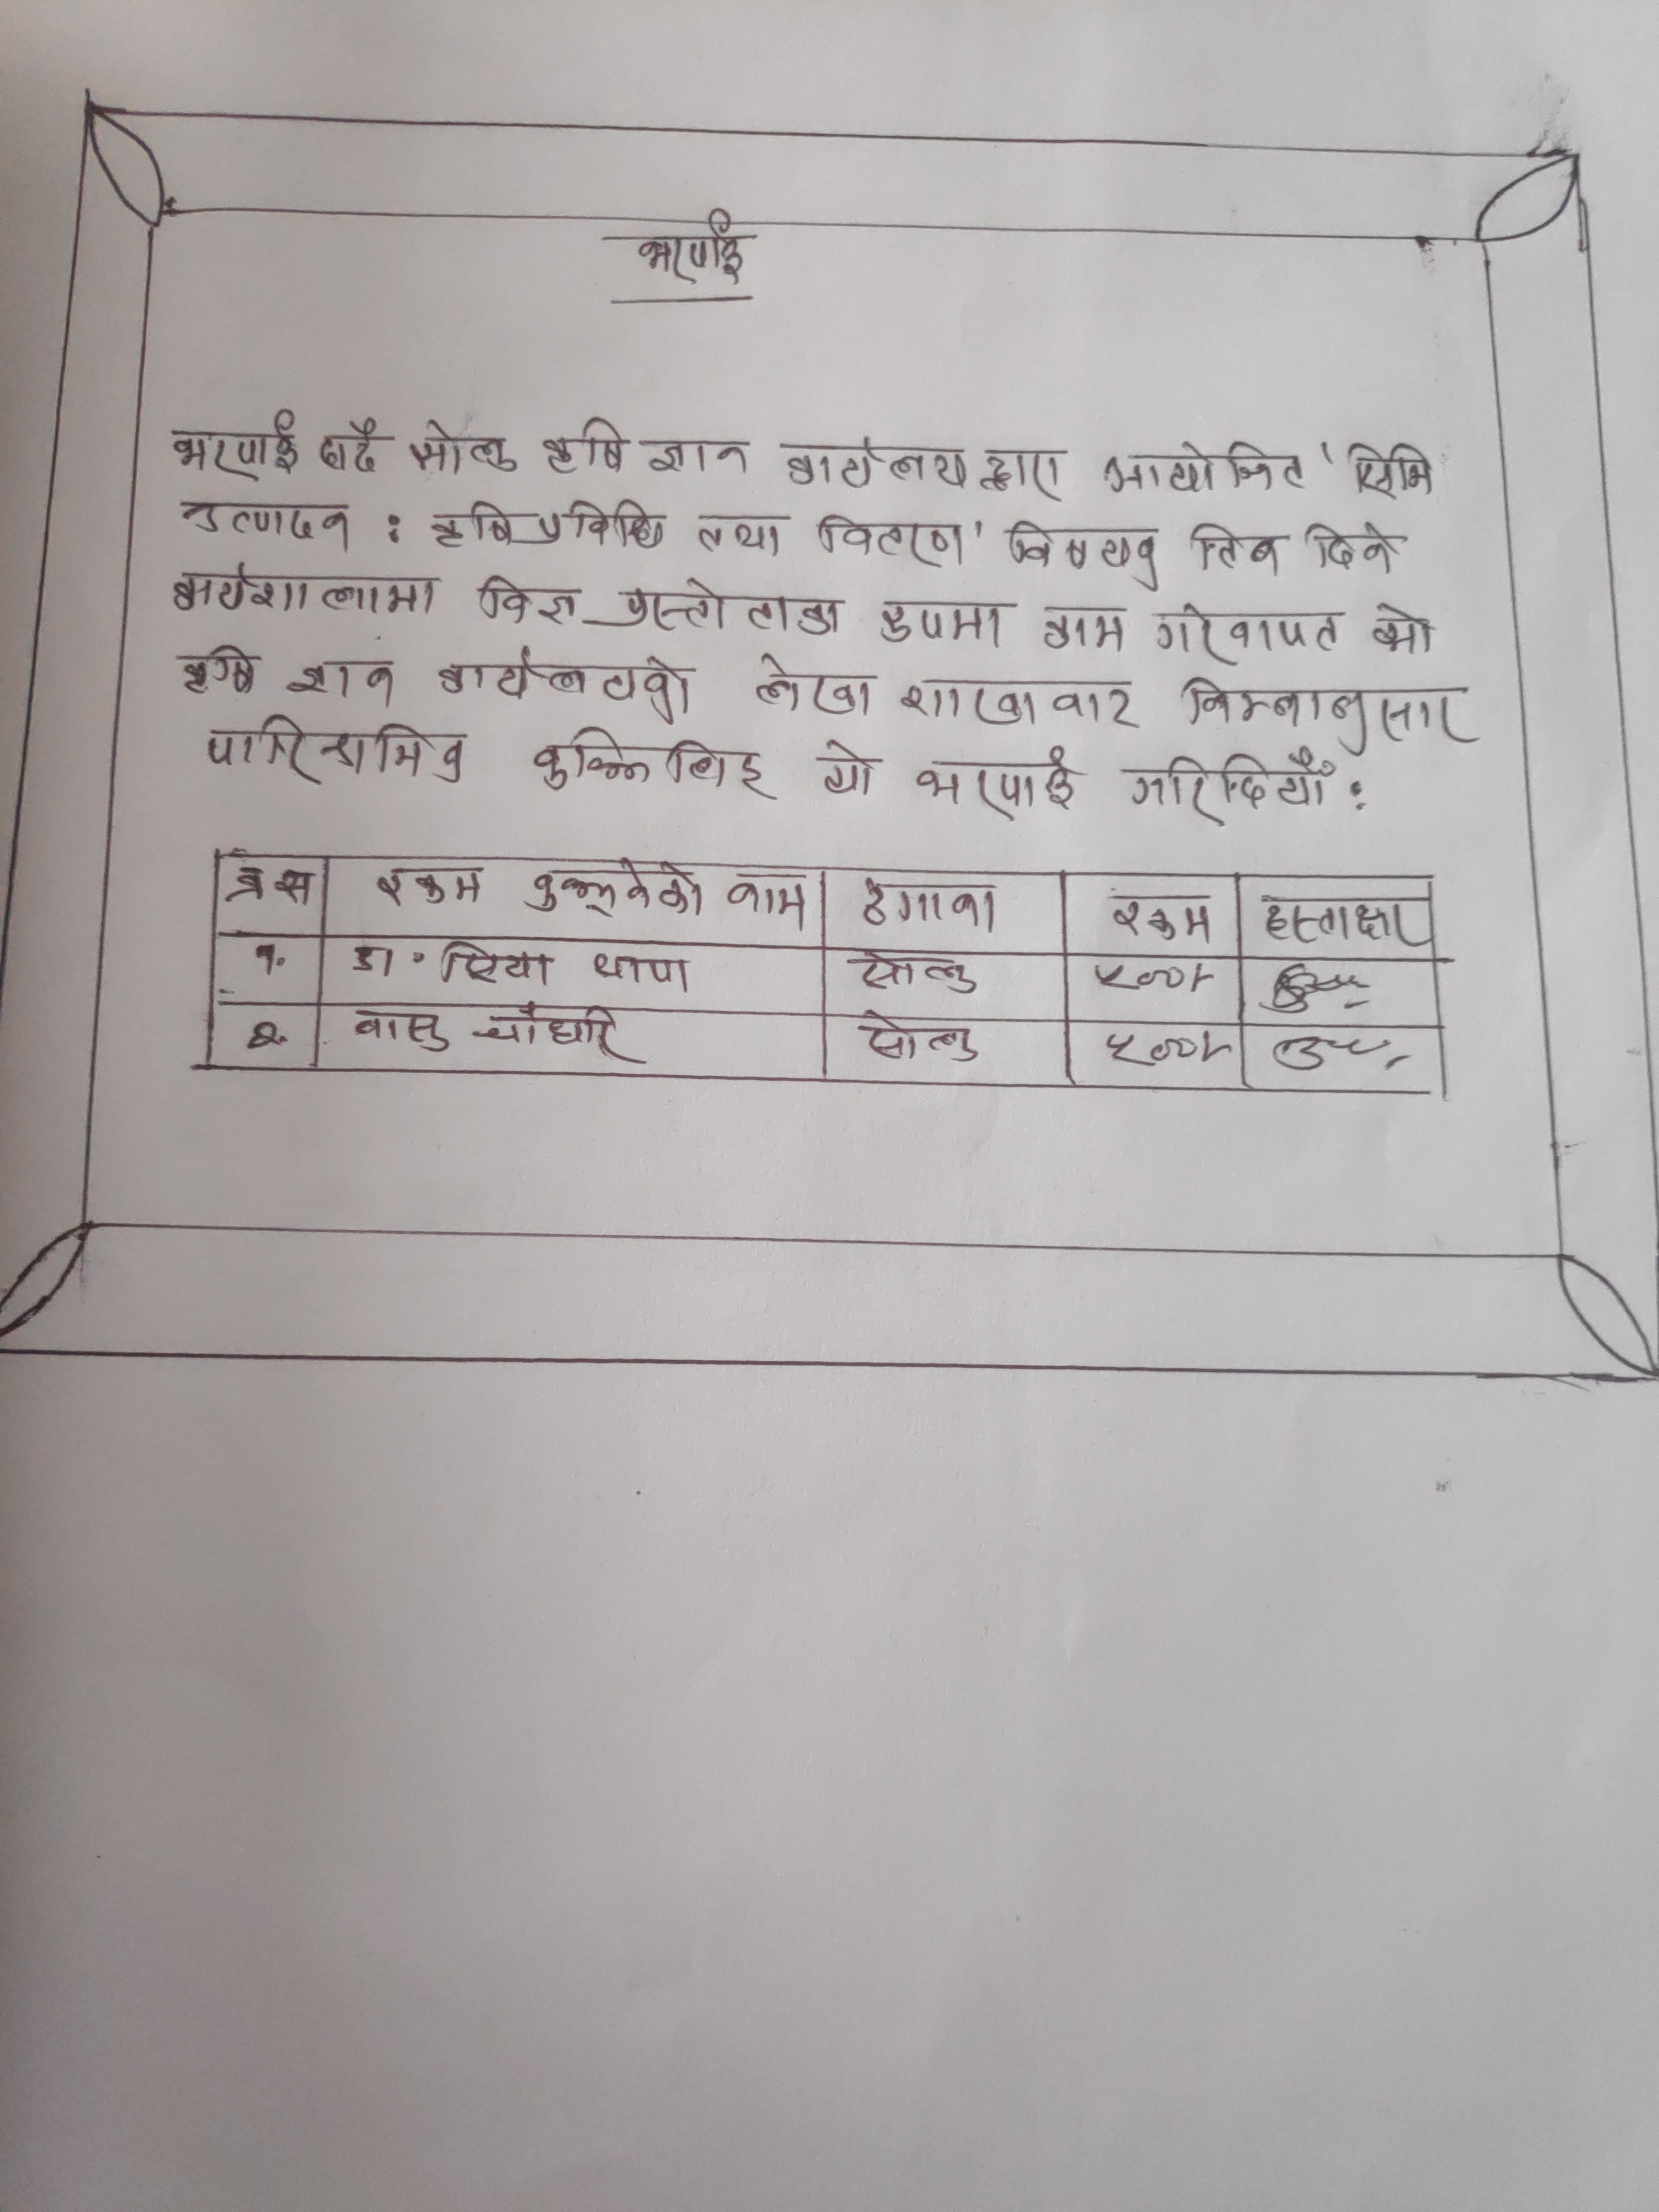text: (1183, 671, 1473, 751), (436, 648, 701, 721), (204, 714, 472, 786), (167, 561, 439, 627), (532, 723, 775, 796), (598, 578, 845, 639), (1124, 752, 1335, 822), (896, 678, 1138, 735), (911, 740, 1080, 822), (598, 207, 762, 289), (774, 430, 976, 493), (1004, 514, 1166, 589), (1096, 441, 1312, 496), (1152, 601, 1347, 660), (816, 505, 969, 577), (523, 860, 706, 920), (1260, 890, 1425, 953), (162, 409, 305, 481), (178, 496, 357, 552), (854, 876, 999, 941), (472, 1003, 629, 1061), (753, 650, 875, 719), (877, 597, 1014, 655), (528, 498, 671, 552), (859, 1010, 986, 1069), (1105, 888, 1222, 949), (406, 421, 519, 481), (1295, 517, 1401, 580), (845, 949, 976, 998), (1188, 519, 1284, 582), (439, 941, 558, 991), (1345, 439, 1438, 503), (347, 1005, 457, 1059), (477, 571, 584, 627), (538, 415, 631, 477), (1035, 599, 1133, 657), (582, 946, 702, 989), (720, 873, 812, 928), (288, 658, 399, 704), (378, 866, 488, 911), (985, 442, 1070, 500), (807, 735, 877, 805), (427, 498, 519, 550), (645, 435, 751, 479), (225, 860, 317, 909), (176, 643, 260, 695), (690, 509, 786, 552), (1364, 601, 1443, 651), (1105, 1028, 1197, 1069), (1086, 960, 1188, 996), (317, 420, 385, 474), (235, 941, 293, 979), (239, 1015, 295, 1052), (345, 948, 408, 979)
